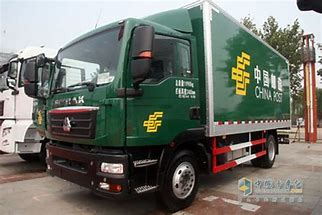smalltruck: (46, 0, 294, 207)
